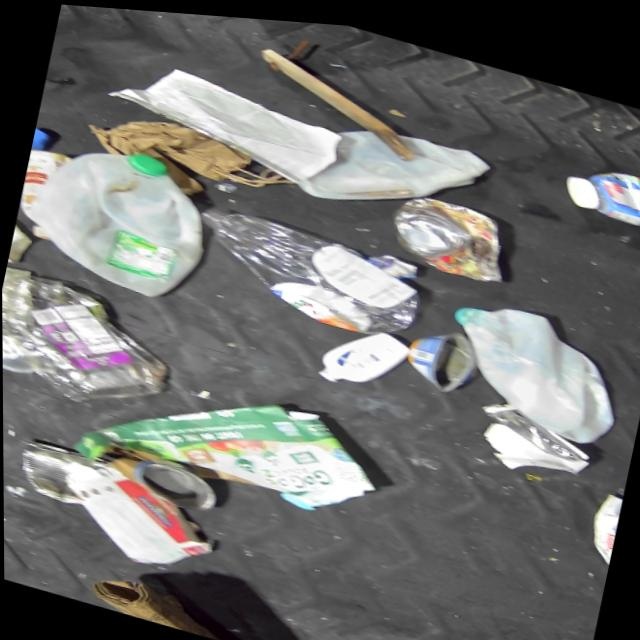can: (379, 177, 519, 284), (6, 431, 101, 509), (399, 311, 485, 394), (128, 449, 223, 513)
milk_jug: (22, 123, 222, 306), (432, 280, 632, 443), (294, 97, 490, 237)
plastic_bottle: (179, 191, 427, 343)
